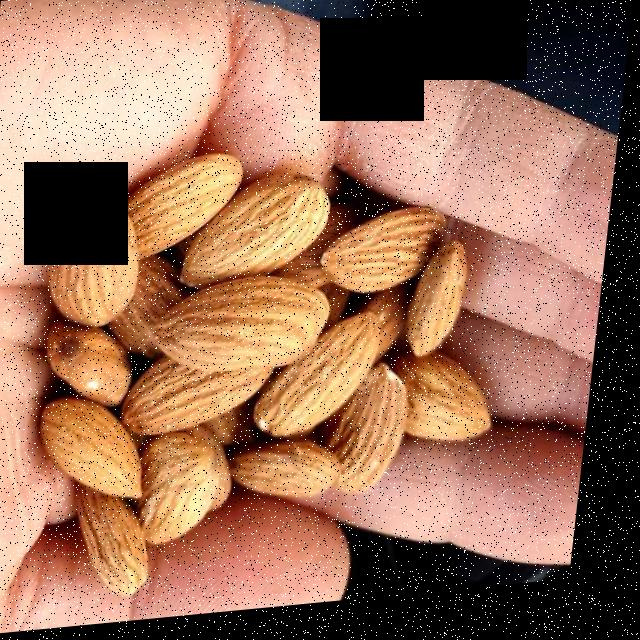almonds: (52, 171, 495, 589)
